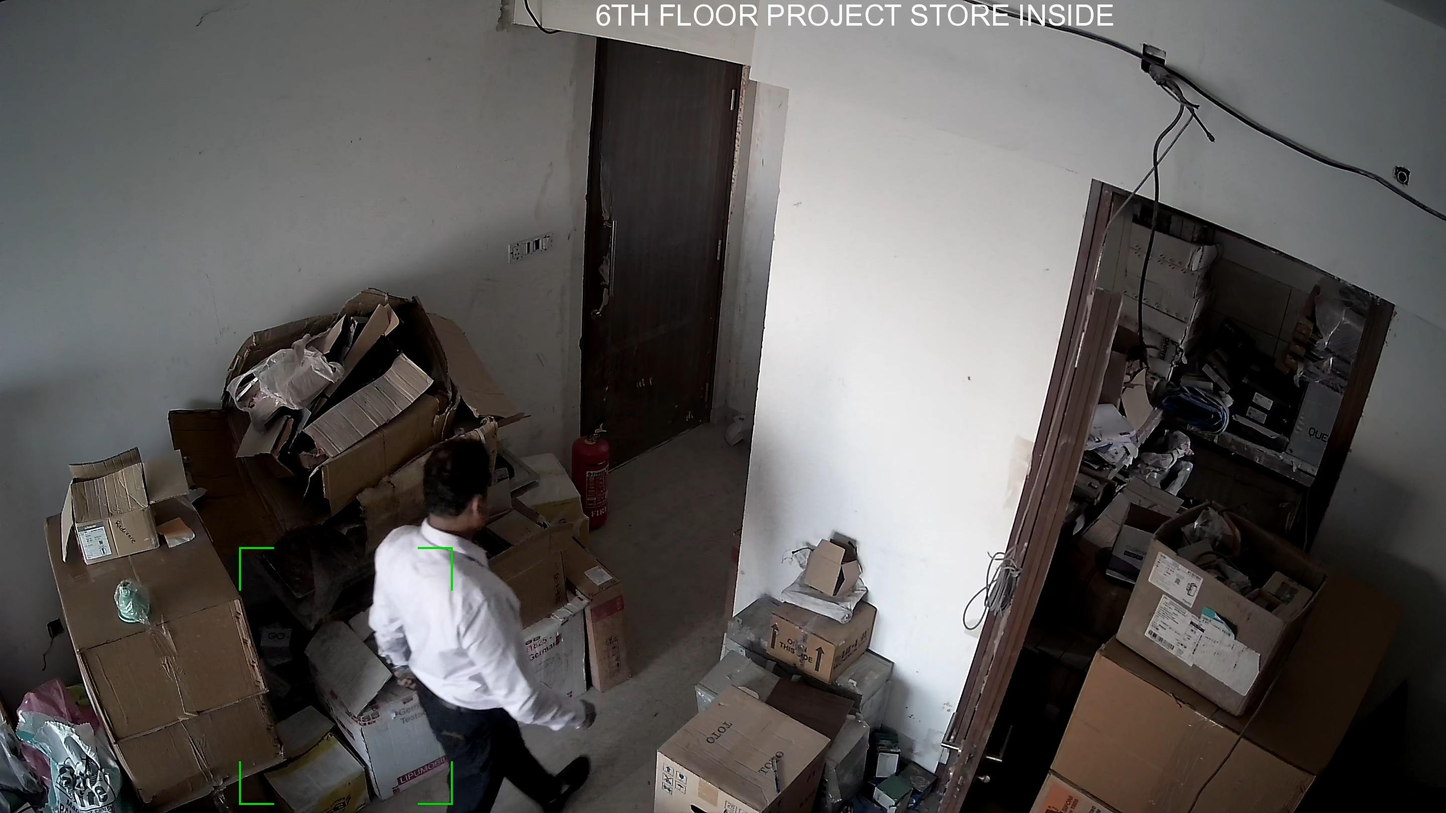Door-Close: (565, 42, 756, 476)
